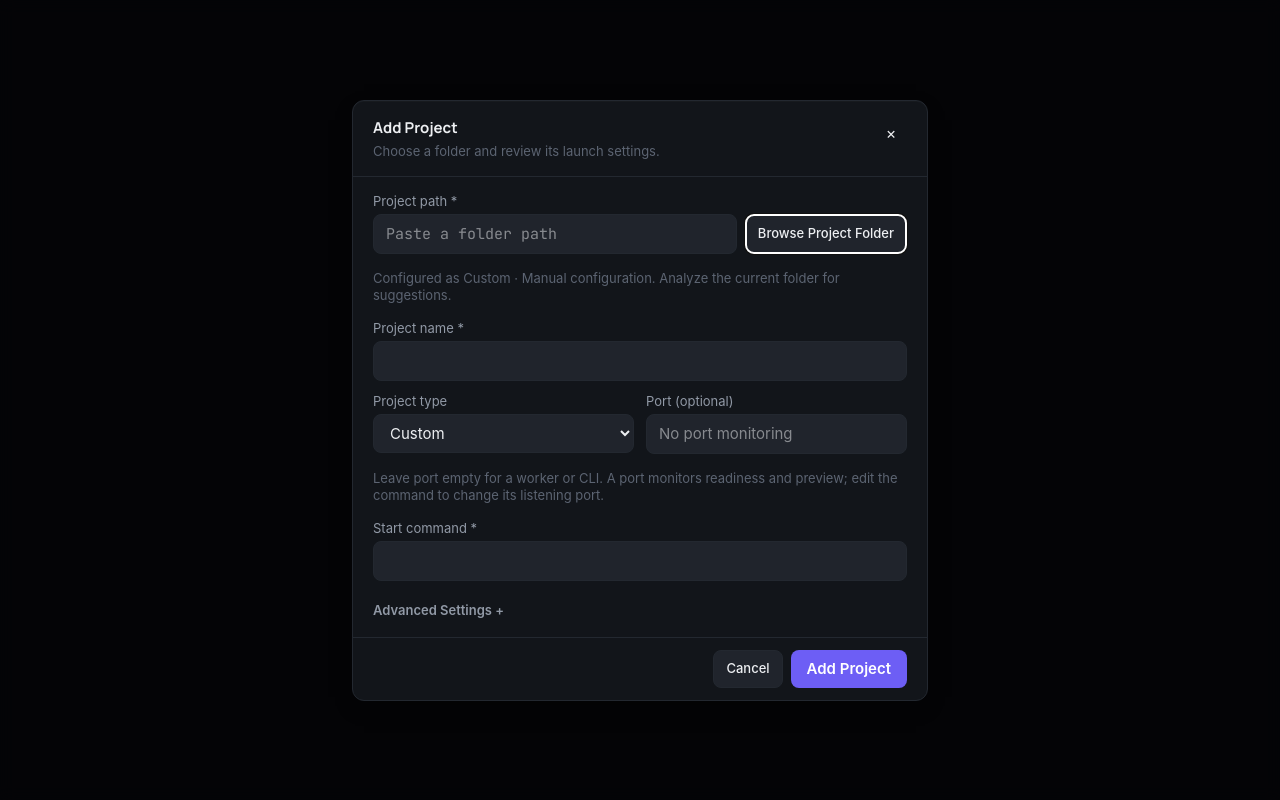
Test case: ProjectModal folder detection › Change folder re-detects and updates the type on a second browse
Click the button "Browse Project Folder".
click(826, 234)  # box [745,214,907,254]
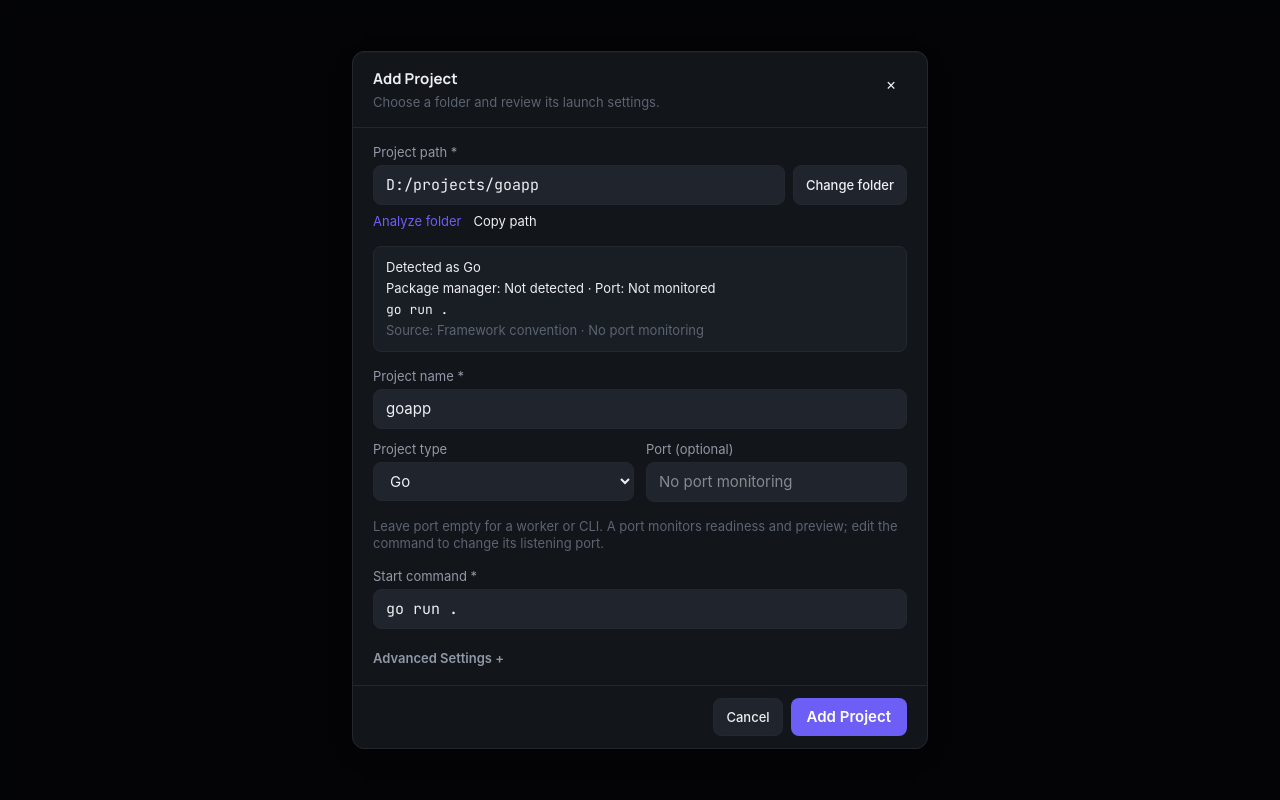
Result: the text "Detected as Go" is shown at [386,259,481,275]
Click the button "Change folder".
click(850, 185)  # box [793,165,907,205]
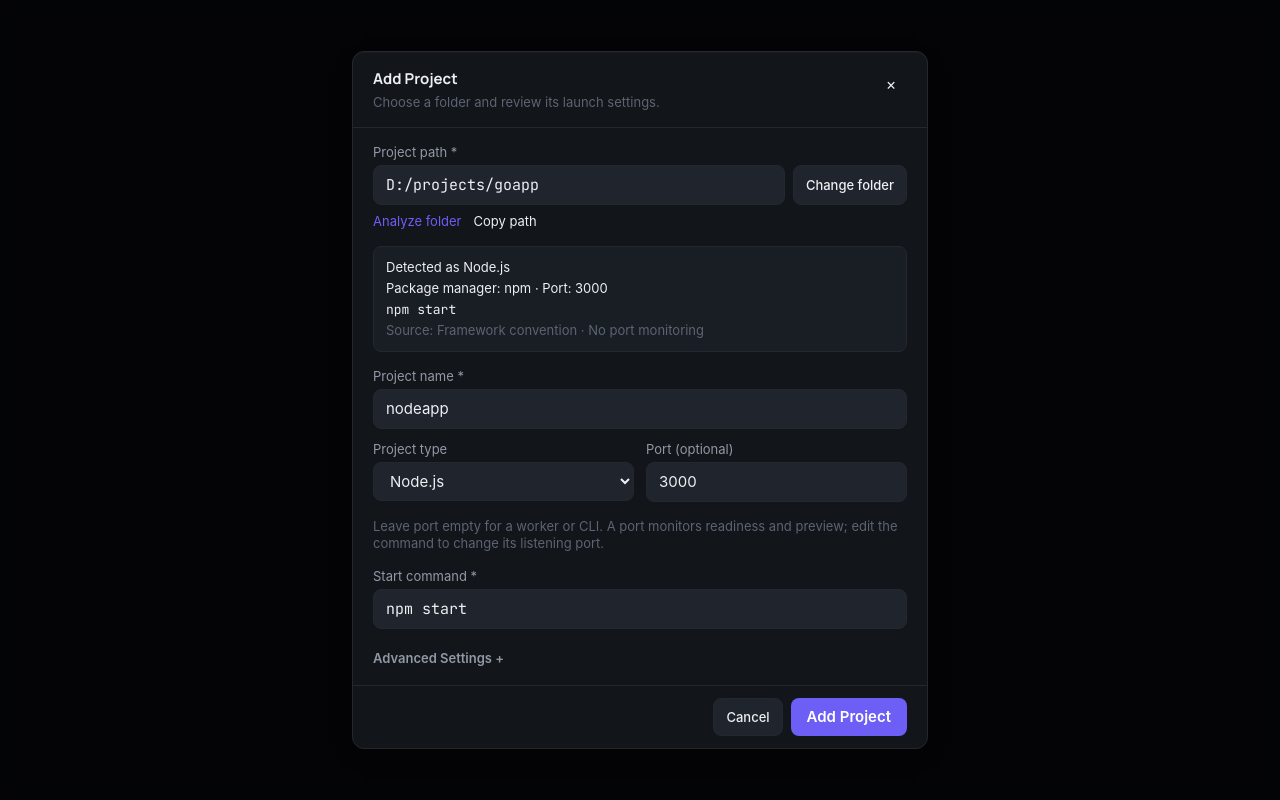
Result: the text "Detected as Node.js" is shown at [386,259,510,275]
Result: the text "npm start" is shown at [386,301,456,318]
